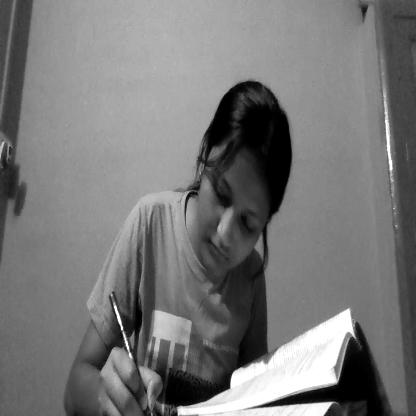Distracted: (192, 83, 300, 297)
